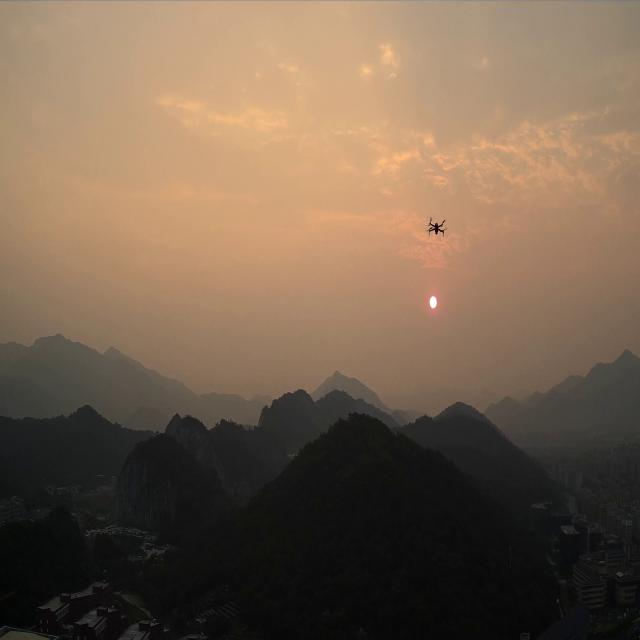UAV: (425, 216, 448, 237)
